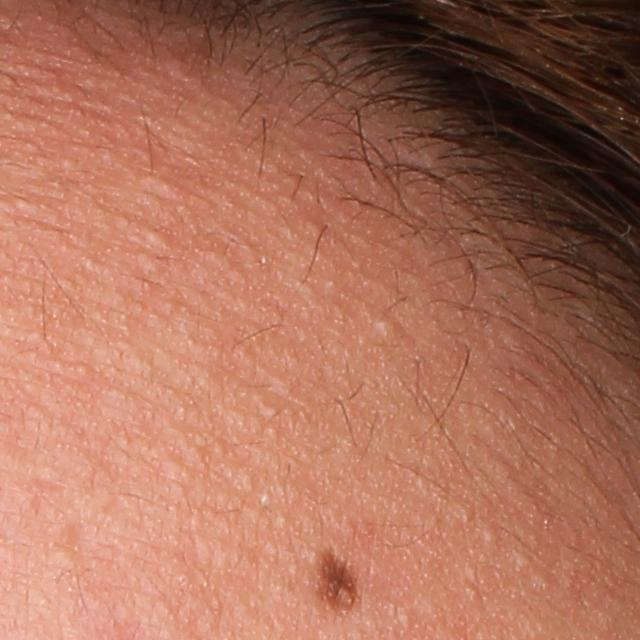comedo: (44, 540, 76, 571), (371, 313, 403, 338), (147, 228, 171, 253), (477, 523, 501, 545), (514, 549, 535, 572)
nevus: (311, 547, 364, 620)
